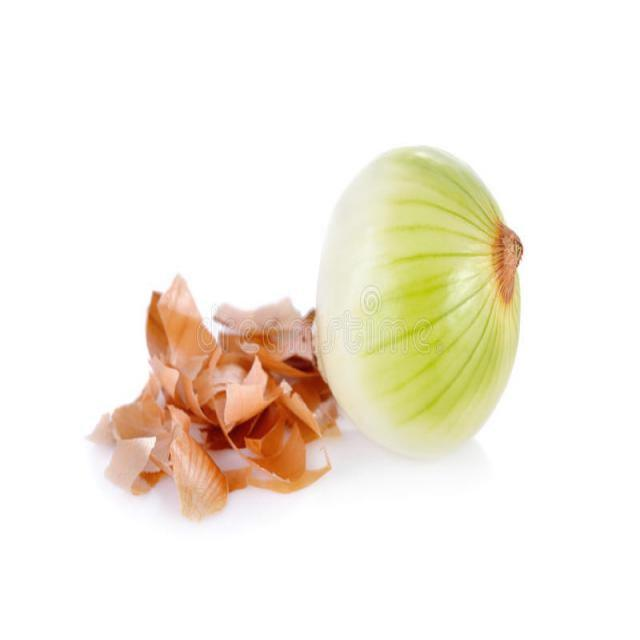onion: (312, 137, 523, 470)
